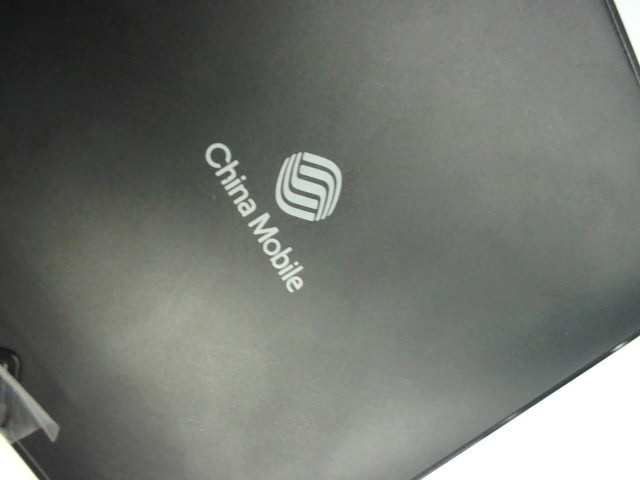AA_ChinaMobile: (202, 131, 358, 296)
